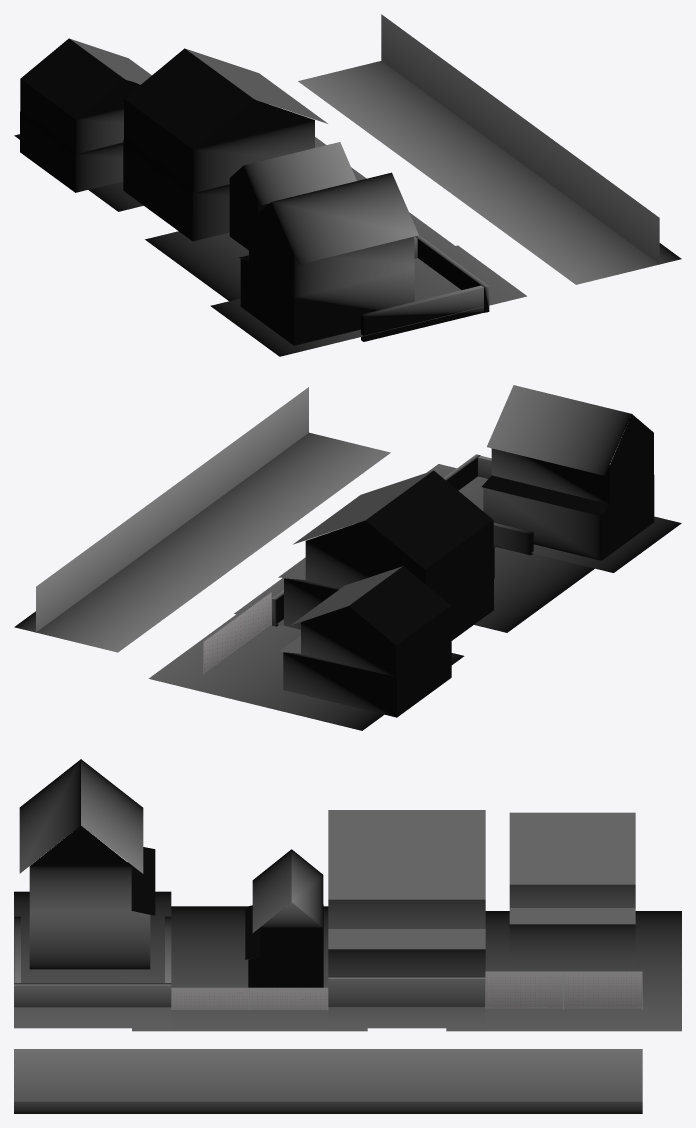
File: K_BILL03.glb
3 views of the same model, one above another, from view 1: azimuth 30°, elevation 25°; view 2: azimuth 150°, elevation 25°; view 3: azimuth 270°, elevation 25° (orthographic). The views are drawn at different scales.
Visible parts, largest first — view 1: Model, Joint_1111, Joint_11, Joint_1, Joint_111; view 2: Model, Joint_1, Joint_1111, Joint_11, Joint_111; view 3: Model, Joint_1, Joint_1111, Joint_11, Joint_111.
Part boxes in pixels (box(x1,y1,x2,y2)): Model: box(298, 14, 681, 284); Joint_1111: box(210, 172, 526, 356); Joint_11: box(123, 48, 366, 241); Joint_1: box(14, 38, 151, 211); Joint_111: box(145, 142, 454, 301); Model: box(14, 387, 390, 652); Joint_1: box(148, 566, 464, 730); Joint_1111: box(427, 385, 681, 572); Joint_11: box(234, 470, 493, 640); Joint_111: box(474, 546, 594, 632); Model: box(14, 1049, 642, 1113); Joint_1: box(446, 812, 681, 1031); Joint_1111: box(14, 759, 171, 1028); Joint_11: box(328, 810, 485, 1028); Joint_111: box(132, 849, 367, 1031).
Size of the model in its own units: 83.44 by 29.56 by 106.
Materials: 7 (2 with a texture image).
